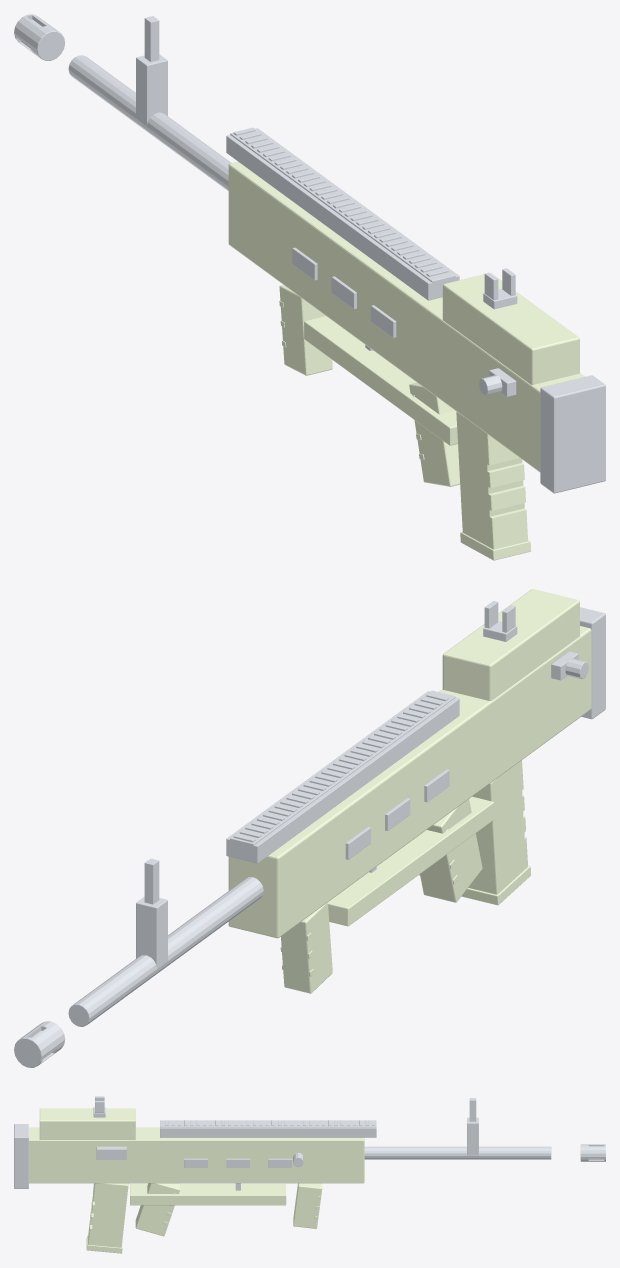
Rendered from aug.glb.
3 renders of one model, top to bottom at view 1: azimuth 30°, elevation 25°; view 2: azimuth 150°, elevation 25°; view 3: azimuth 270°, elevation 25°, orthographic. The views are drawn at different scales.
Parts seen in each view (by area): view 1: Receiver, TopRail, CheekRest, mag, StockPlate, TriggerGuardBridge, Barrel, StockIrons, Foregrip, Grip, FlashHider, bolt; view 2: Receiver, TopRail, CheekRest, mag, TriggerGuardBridge, Barrel, StockIrons, Foregrip, Grip, StockPlate, FlashHider, bolt; view 3: Receiver, TopRail, TriggerGuardBridge, CheekRest, Barrel, mag, Grip, Foregrip, StockPlate, StockIrons, FlashHider, EjectionPort (+3 smaller).
Part boxes in pixels (left/top/right/bottom): Receiver: left=228, top=161, right=584, bottom=472; TopRail: left=226, top=127, right=459, bottom=300; CheekRest: left=442, top=273, right=579, bottom=384; mag: left=456, top=411, right=531, bottom=560; StockPlate: left=540, top=375, right=605, bottom=493; TriggerGuardBridge: left=304, top=316, right=457, bottom=445; Barrel: left=68, top=55, right=231, bottom=190; StockIrons: left=136, top=16, right=517, bottom=309; Foregrip: left=279, top=285, right=332, bottom=375; Grip: left=409, top=382, right=459, bottom=486; FlashHider: left=14, top=14, right=65, bottom=60; bolt: left=479, top=368, right=516, bottom=396; Receiver: left=228, top=626, right=591, bottom=938; TopRail: left=226, top=690, right=459, bottom=863; CheekRest: left=442, top=589, right=579, bottom=700; mag: left=461, top=760, right=531, bottom=905; TriggerGuardBridge: left=328, top=796, right=493, bottom=926; Barrel: left=68, top=877, right=263, bottom=1026; StockIrons: left=136, top=601, right=517, bottom=968; Foregrip: left=280, top=902, right=332, bottom=993; Grip: left=419, top=799, right=482, bottom=902; StockPlate: left=580, top=607, right=605, bottom=719; FlashHider: left=14, top=1021, right=65, bottom=1067; bolt: left=551, top=651, right=588, bottom=680; Receiver: left=29, top=1127, right=364, bottom=1183; TopRail: left=160, top=1120, right=376, bottom=1137; TriggerGuardBridge: left=130, top=1184, right=286, bottom=1205; CheekRest: left=39, top=1108, right=135, bottom=1139; Barrel: left=364, top=1146, right=551, bottom=1159; mag: left=86, top=1183, right=128, bottom=1253; Grip: left=135, top=1183, right=179, bottom=1236; Foregrip: left=293, top=1183, right=322, bottom=1228; StockPlate: left=14, top=1124, right=28, bottom=1188; StockIrons: left=93, top=1096, right=478, bottom=1155; FlashHider: left=580, top=1144, right=605, bottom=1161; EjectionPort: left=96, top=1146, right=126, bottom=1159.
Bounding box in the file's own units: 0.097 × 0.2743 × 0.9835.
